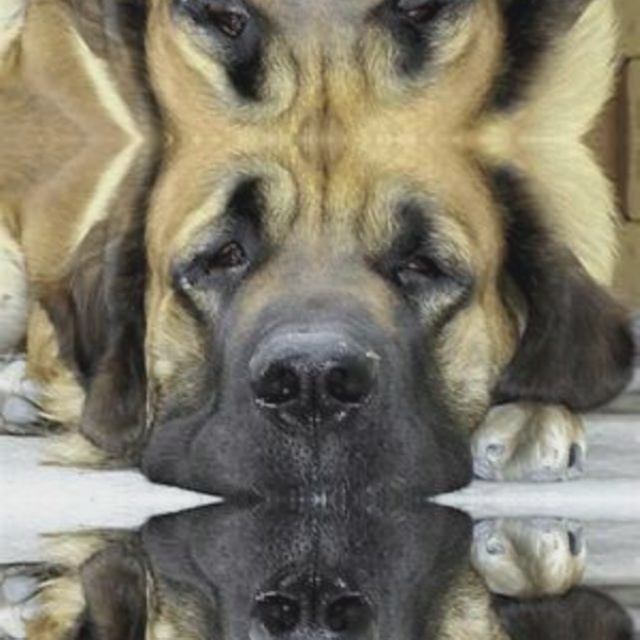dog: (132, 145, 545, 500), (133, 499, 546, 640), (133, 0, 546, 133)
